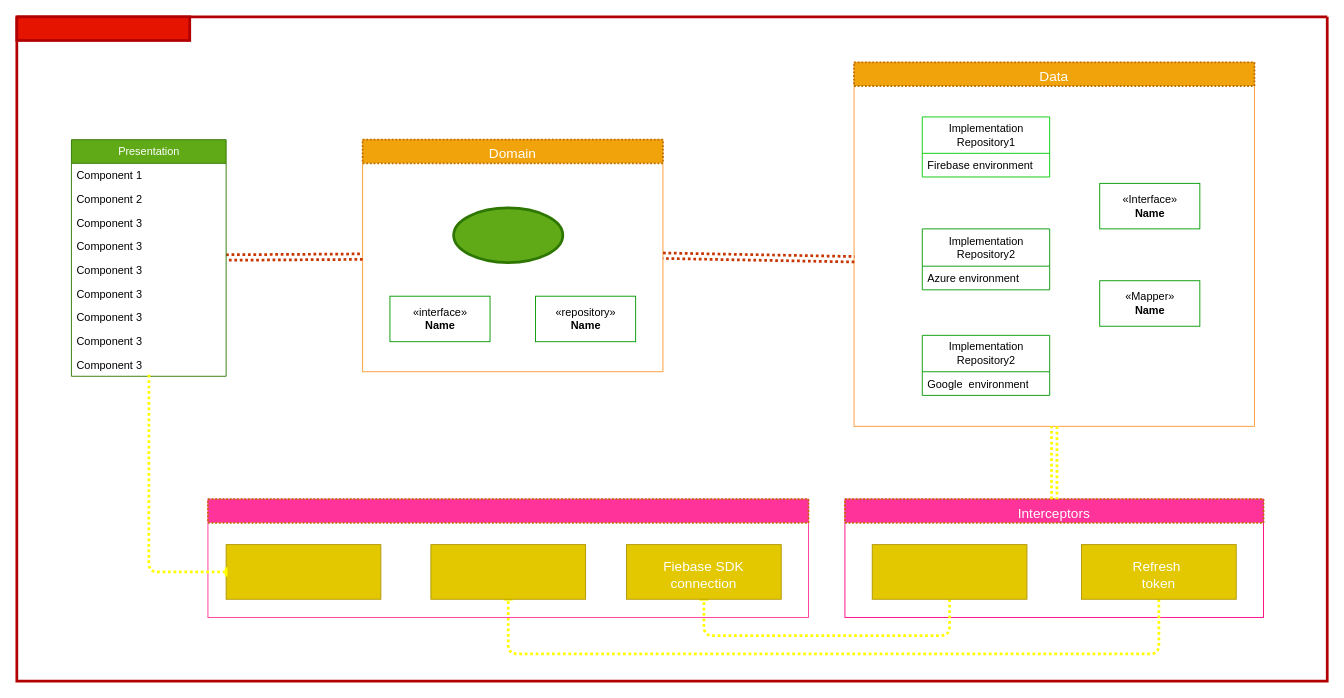
This 1344x698 diagram has some shape labels left out. The centre of each missing label's shape, as x and y in pixels:
"Angular Application" belongs at point (103, 28).
"Generate new token" belongs at point (508, 571).
"Realtime SessionId" belongs at point (949, 571).
"RSA encryption" belongs at point (303, 571).
"Security services" belongs at point (508, 510).
"UseCaseName" belongs at point (508, 234).
